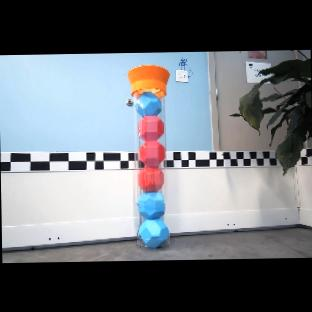V5_BLUE: (138, 217, 170, 247), (136, 190, 166, 217), (135, 88, 161, 113)
V5_RED: (134, 113, 163, 139), (137, 164, 164, 190), (137, 139, 164, 165)
